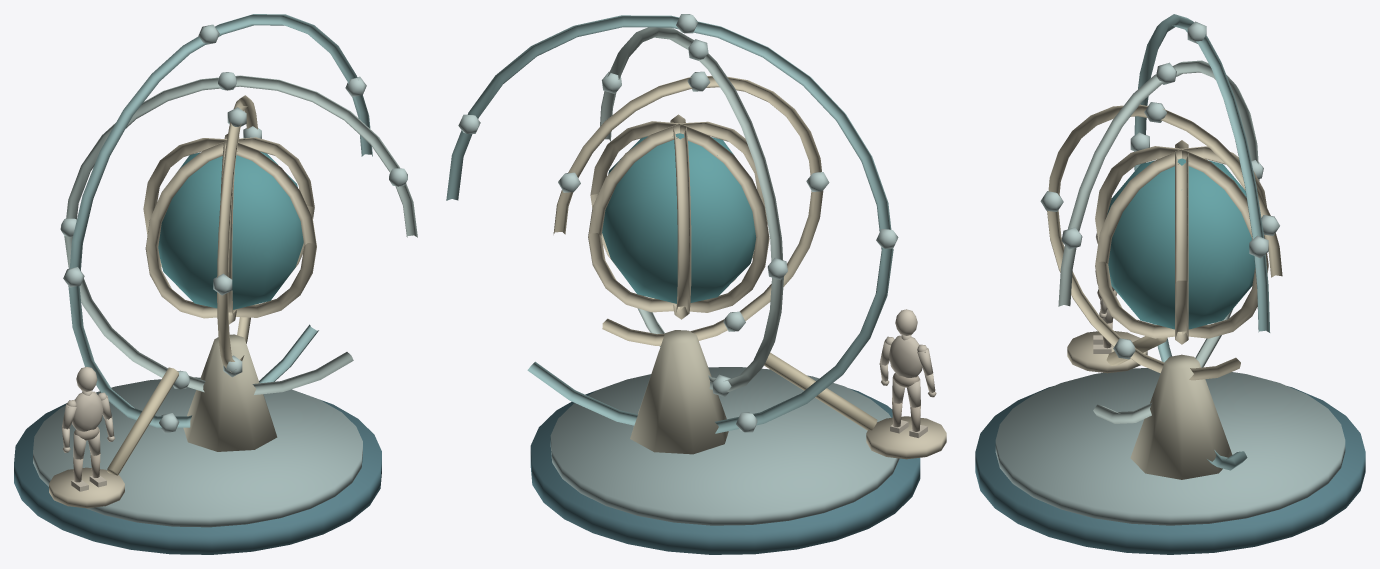
File: ART-68.glb
3 views of the same model, side by side, from view 1: azimuth 30°, elevation 25°; view 2: azimuth 150°, elevation 25°; view 3: azimuth 270°, elevation 25° (orthographic). The views are drawn at different scales.
Visible parts, largest first — view 1: world; view 2: world; view 3: world.
Boxes of the visible parts, x1,y1,x2,y2 form: world: [14, 14, 417, 554]; world: [446, 14, 946, 554]; world: [975, 14, 1365, 554].
Size of the model in its own units: 1.89 by 2 by 1.53.
